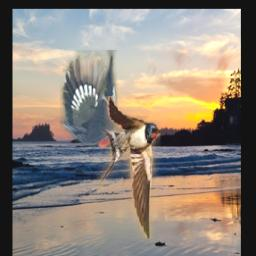Swallow: (84, 97, 161, 239)
Woodpecker: (61, 51, 119, 148)
